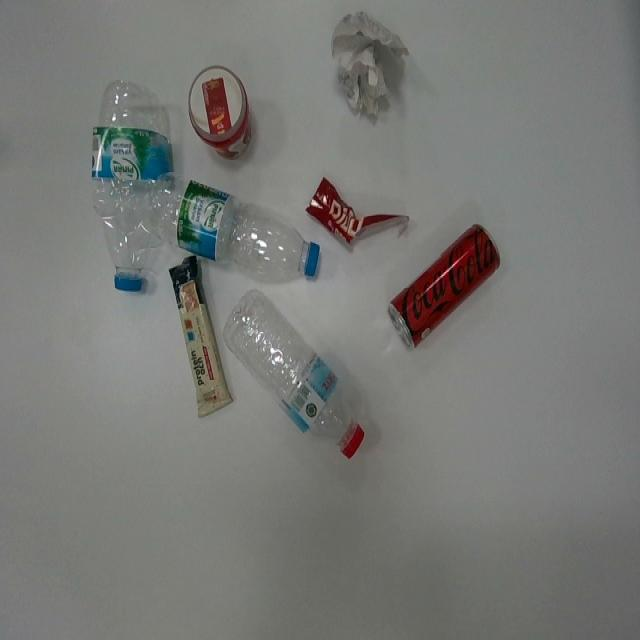metal: (388, 222, 501, 352)
paper: (331, 9, 411, 127)
plastic: (223, 286, 365, 460), (149, 172, 319, 286), (90, 80, 174, 293), (169, 255, 233, 420), (305, 179, 410, 249), (187, 65, 252, 161)
